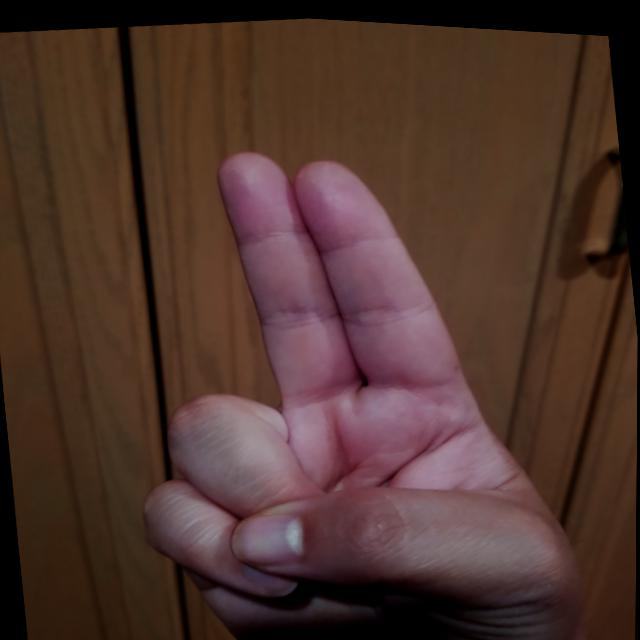U: (91, 102, 610, 639)
